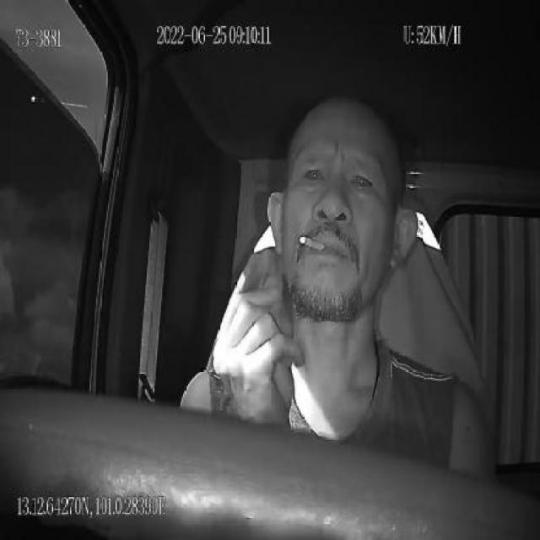smoking: (298, 230, 324, 254)
